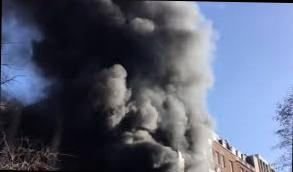Smoke: (20, 0, 221, 172)
